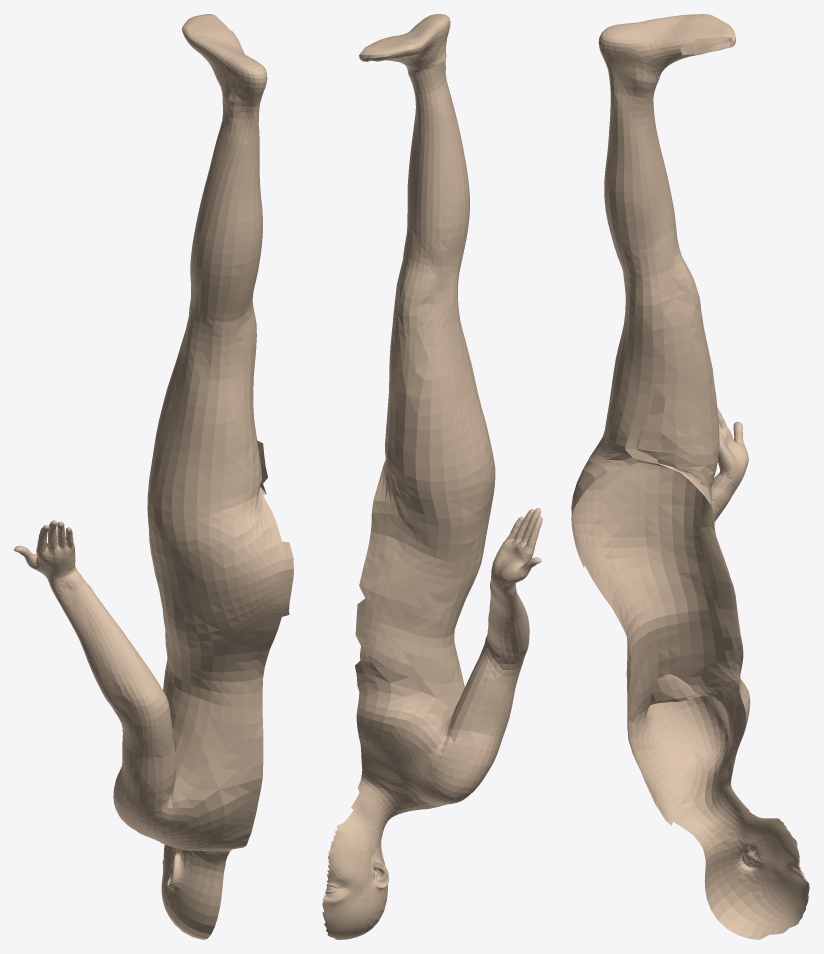
File: body_left_clean.obj
3 views of the same model, side by side, from view 1: azimuth 30°, elevation 25°; view 2: azimuth 150°, elevation 25°; view 3: azimuth 270°, elevation 25° (orthographic). The views are drawn at different scales.
Parts seen in each view (by area): view 1: Left_Body; view 2: Left_Body; view 3: Left_Body.
Part boxes in pixels (x1,y1,x2,y2): Left_Body: (14,14,293,939); Left_Body: (322,14,542,939); Left_Body: (571,14,809,939).
Bounding box in the file's own units: 0.3928 × 1.79 × 0.4265.
